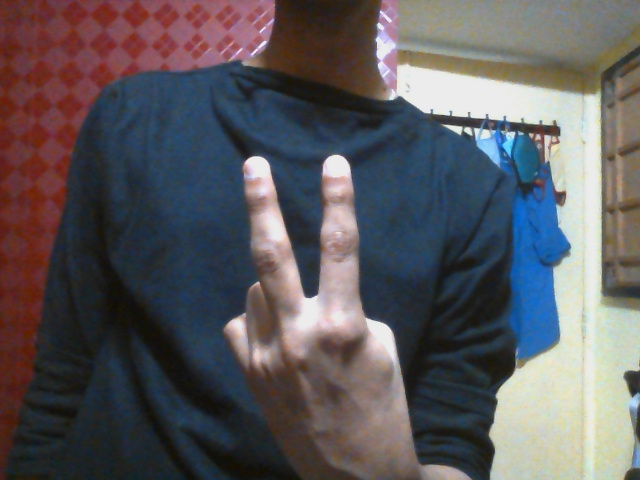V: (223, 155, 409, 436)
